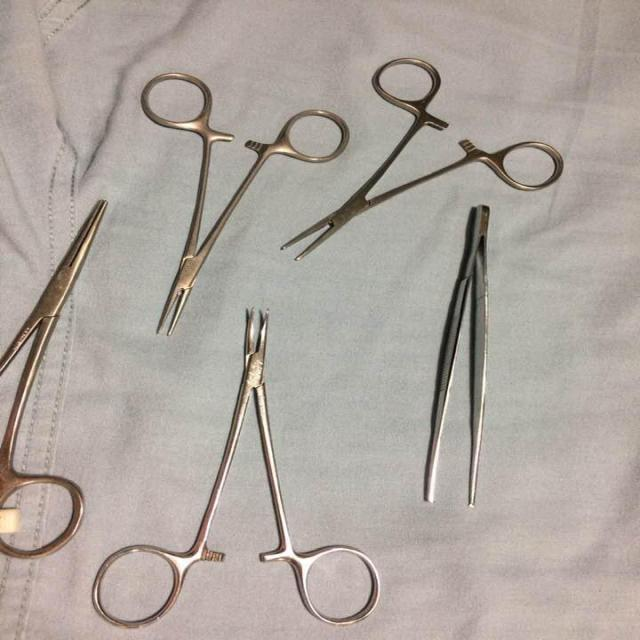Forceps: (420, 198, 497, 512)
Hemostat: (86, 304, 387, 632), (274, 52, 568, 272), (137, 66, 356, 342), (5, 193, 110, 564)
